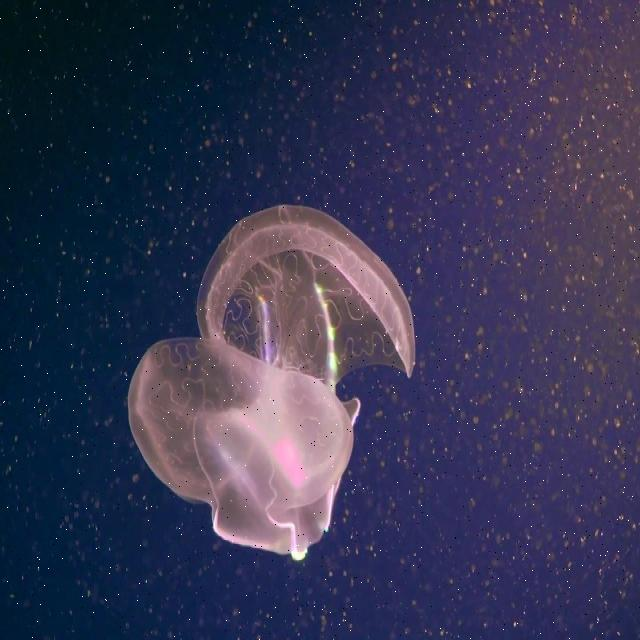reefs: (127, 204, 417, 563)
